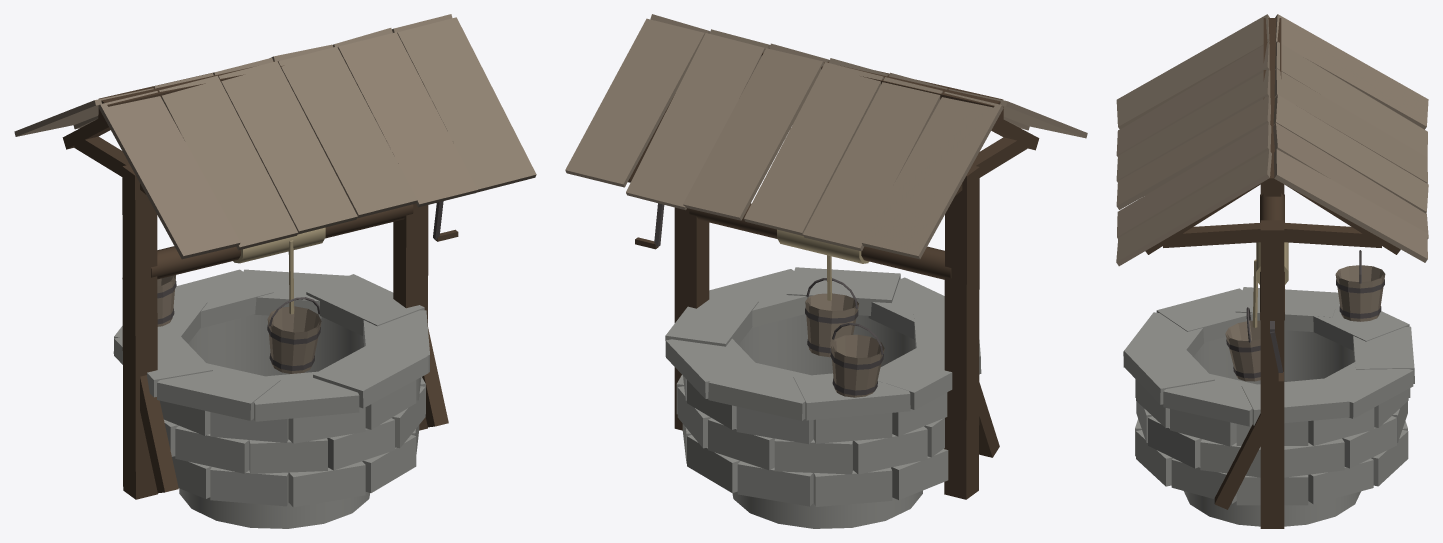
The model's file is well.glb.
3 views of the same model, side by side, from view 1: azimuth 30°, elevation 25°; view 2: azimuth 150°, elevation 25°; view 3: azimuth 270°, elevation 25° (orthographic). The views are drawn at different scales.
Parts seen in each view (by area): view 1: well; view 2: well; view 3: well.
Part boxes in pixels (x1,y1,x2,y2): well: (14,14,536,528); well: (565,14,1087,528); well: (1116,14,1428,528).
Size of the model in its own units: 2.64 by 2.98 by 2.13.
